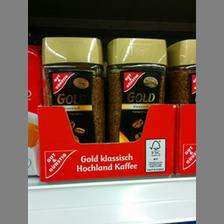Kaffee: (41, 34, 105, 142), (104, 36, 166, 140)
